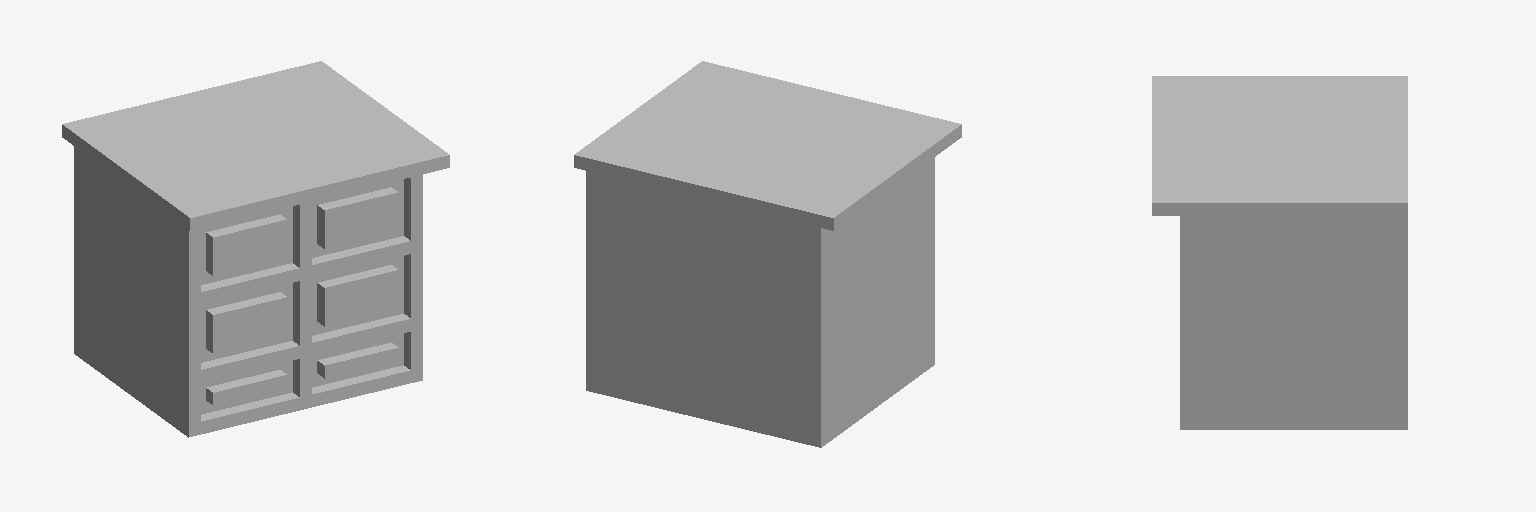
Rendered from counters.obj.
3 views of the same model, side by side, from view 1: azimuth 30°, elevation 25°; view 2: azimuth 150°, elevation 25°; view 3: azimuth 270°, elevation 25° (orthographic).
Visible parts, largest first — view 1: ObjObject.012; view 2: ObjObject.012; view 3: ObjObject.012.
Boxes of the visible parts, box(x1,y1,x2,y2) form: ObjObject.012: box(62, 61, 449, 437); ObjObject.012: box(574, 61, 961, 447); ObjObject.012: box(1152, 76, 1407, 429).
Size of the model in its own units: 2.1 by 1.8 by 1.8.